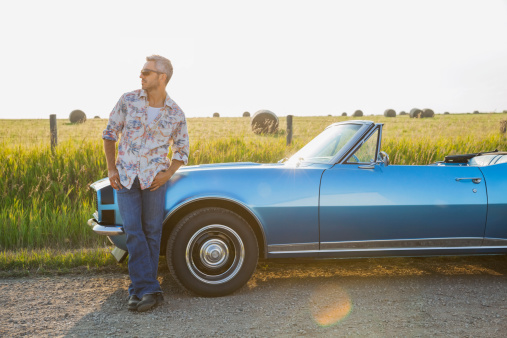em pe: (91, 42, 185, 323)
